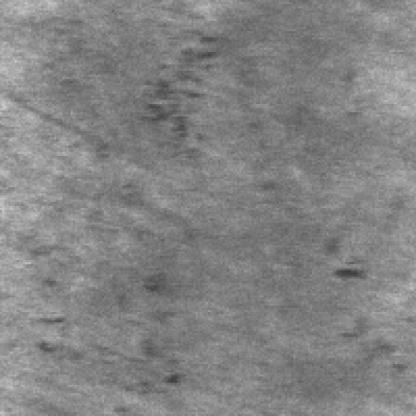rolled-in_scale: (46, 264, 186, 383), (147, 25, 227, 156)
